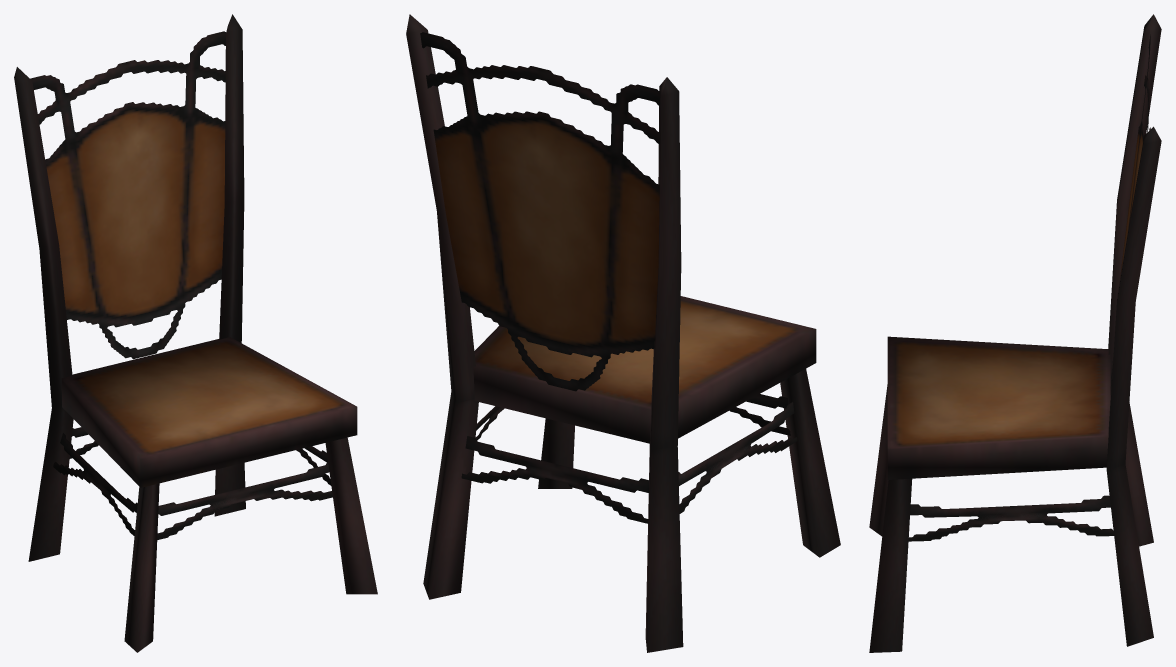
Rendered from chair.obj.
3 renders of one model, left to right at view 1: azimuth 30°, elevation 25°; view 2: azimuth 150°, elevation 25°; view 3: azimuth 270°, elevation 25°, orthographic. The views are drawn at different scales.
Visible parts, largest first — view 1: rdmobj00; view 2: rdmobj00; view 3: rdmobj00.
Part boxes in pixels (left/top/right/bottom): rdmobj00: left=14, top=14, right=377, bottom=652; rdmobj00: left=406, top=14, right=840, bottom=652; rdmobj00: left=869, top=14, right=1161, bottom=652.
Bounding box in the file's own units: 65.19 × 126 × 64.14.
Materials: 1 (1 with a texture image).
